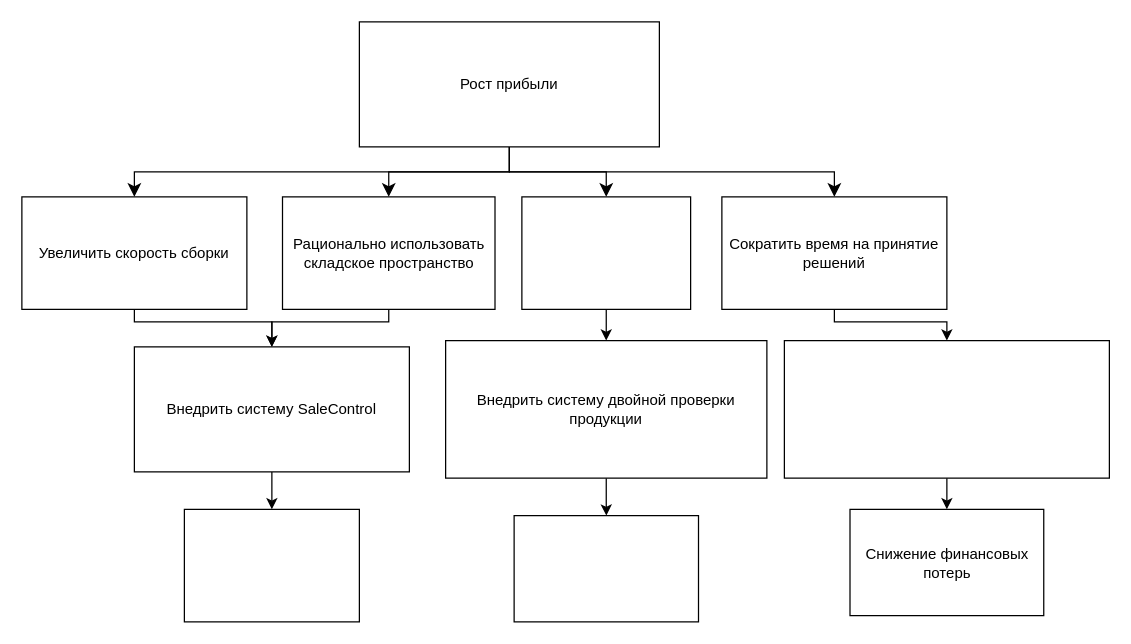
This 1131x644 diagram has some shape labels left out. Each missing label, with the box of its shape:
Диверсификация доходов: (183, 508, 359, 622)
Повысить точность: (521, 196, 691, 309)
Снижение количества брака: (513, 514, 698, 622)
Ускорить процесс формирования отчетности: (783, 339, 1109, 478)
